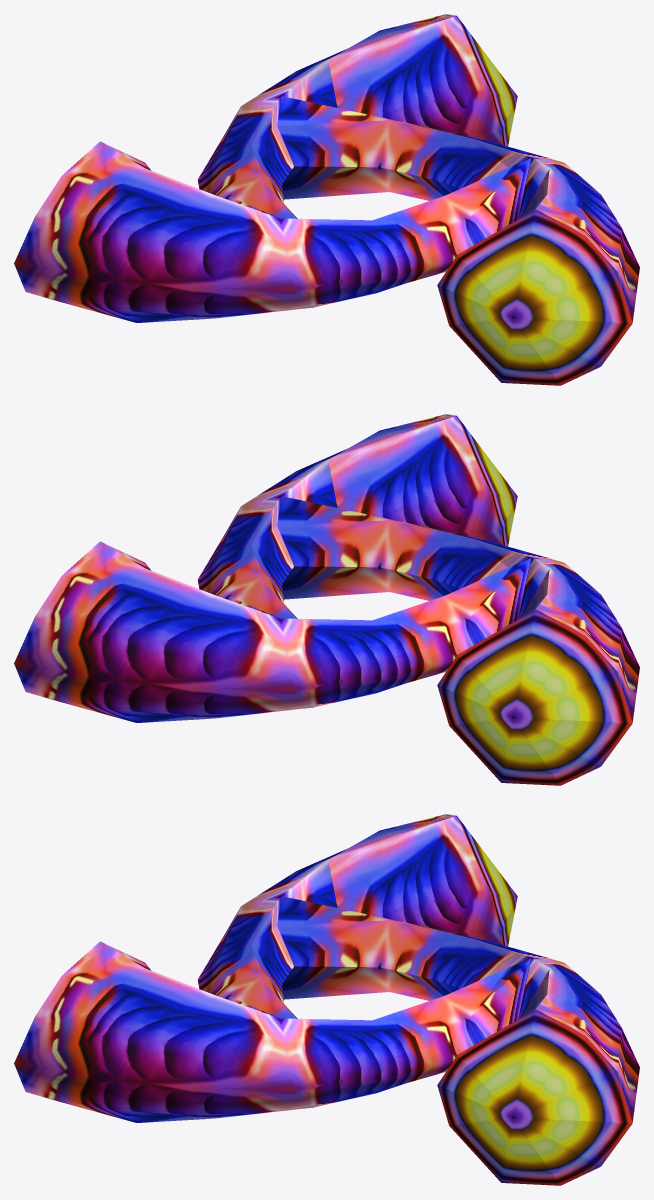
The model's file is ship-06.fbx.
The picture shows the model from 3 angles, top to bottom: view 1: azimuth 30°, elevation 25°; view 2: azimuth 150°, elevation 25°; view 3: azimuth 270°, elevation 25°; orthographic projection.
Visible parts, largest first — view 1: ship-06; view 2: ship-06; view 3: ship-06.
Boxes of the visible parts, x1,y1,x2,y2 form: ship-06: (14, 14, 639, 385); ship-06: (14, 414, 639, 785); ship-06: (14, 814, 639, 1185).
Bounding box in the file's own units: 140 × 40.35 × 141.
